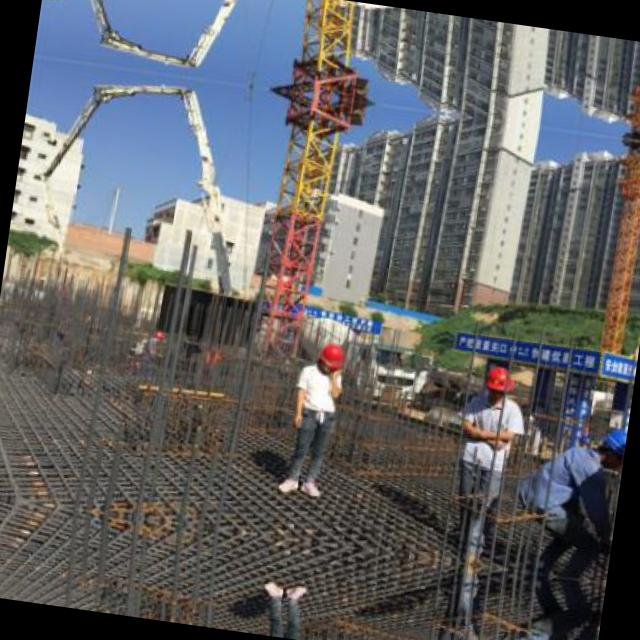helmet: (592, 424, 626, 475), (479, 364, 515, 406), (312, 340, 346, 374)
